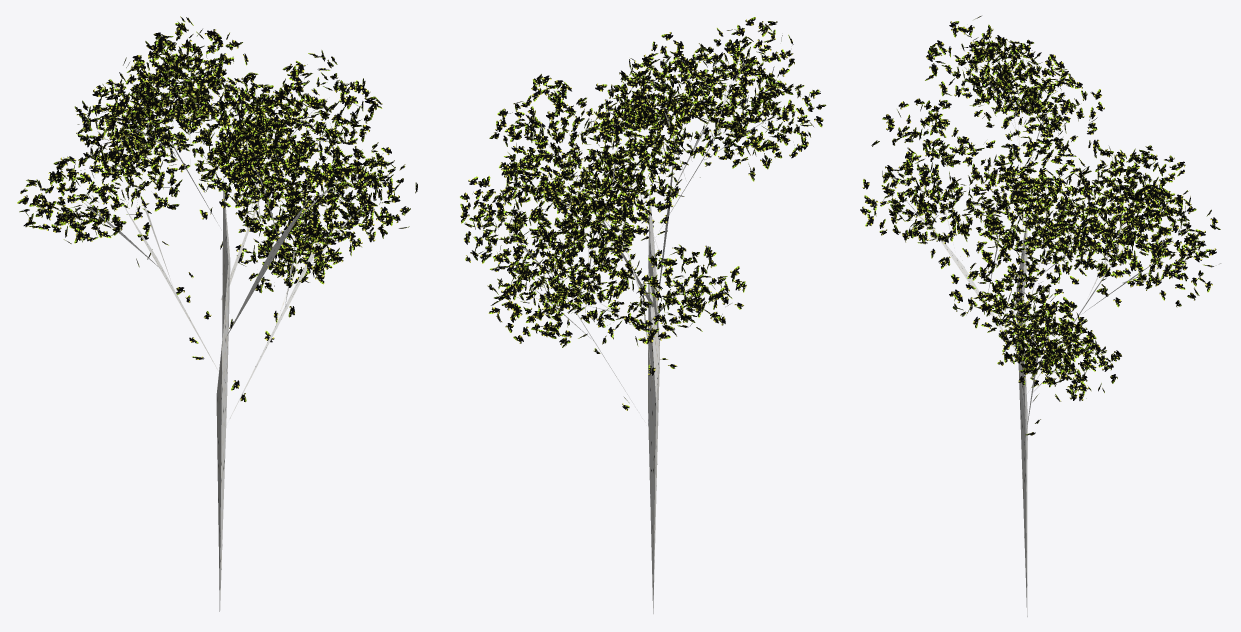
Rendered from birch_pale_v03_LOD1.fbx.
3 views of the same model, side by side, from view 1: azimuth 30°, elevation 25°; view 2: azimuth 150°, elevation 25°; view 3: azimuth 270°, elevation 25° (orthographic). The views are drawn at different scales.
Visible parts, largest first — view 1: birch_pale_v03_LOD1; view 2: birch_pale_v03_LOD1; view 3: birch_pale_v03_LOD1.
Part boxes in pixels (x1,y1,x2,y2): birch_pale_v03_LOD1: [17, 16, 417, 611]; birch_pale_v03_LOD1: [460, 17, 826, 613]; birch_pale_v03_LOD1: [860, 16, 1220, 616].
Bounding box in the file's own units: 1222 × 1198 × 2026.
Materials: 2 (2 with a texture image).
